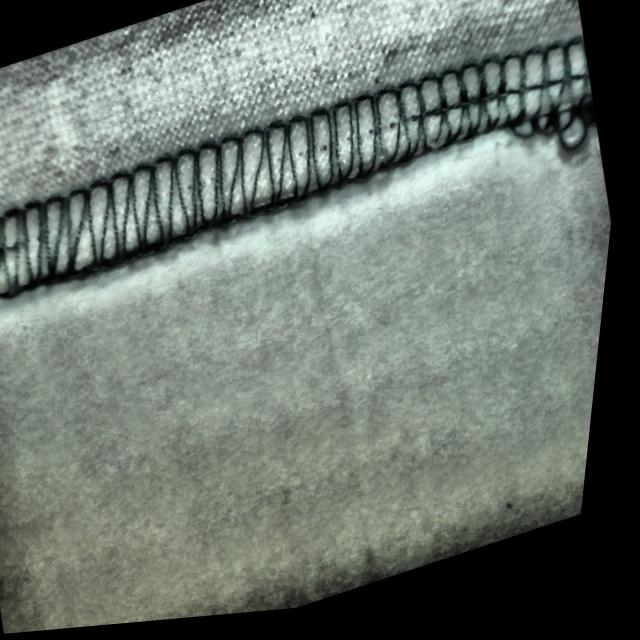Stitch: (489, 29, 614, 185)
